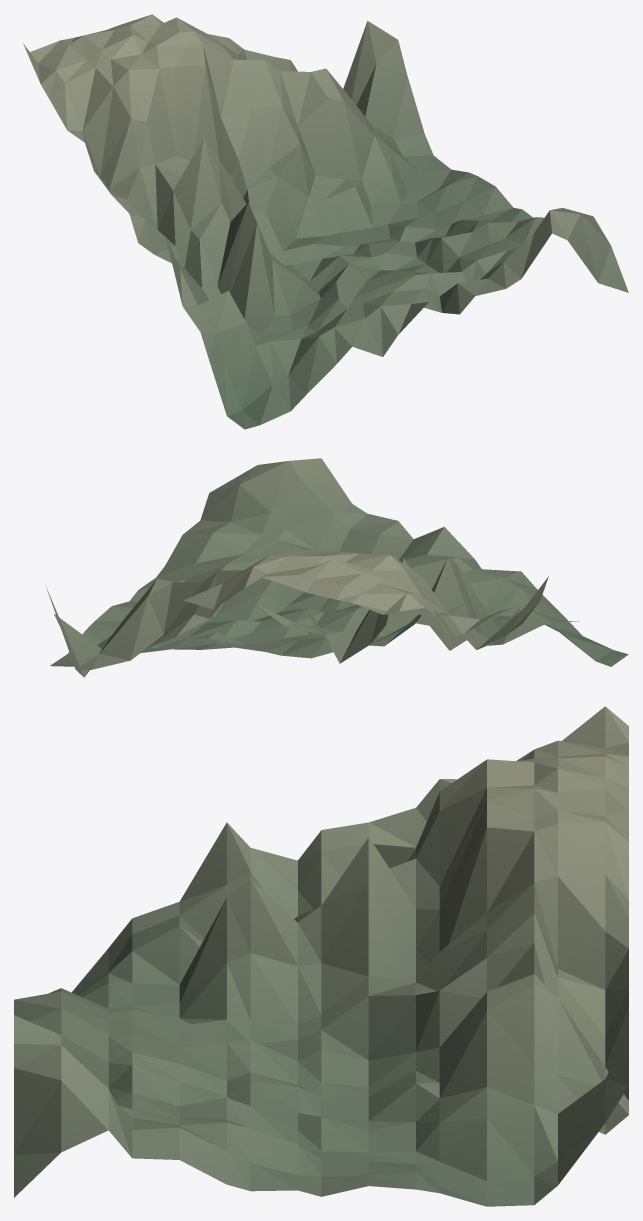
The model's file is tile_2_3.glb.
3 renders of one model, top to bottom at view 1: azimuth 30°, elevation 25°; view 2: azimuth 150°, elevation 25°; view 3: azimuth 270°, elevation 25°, orthographic. The views are drawn at different scales.
Visible parts, largest first — view 1: geometry_0; view 2: geometry_0; view 3: geometry_0.
Part boxes in pixels (x1,y1,x2,y2): geometry_0: (23,14,628,429); geometry_0: (45,458,628,677); geometry_0: (14,706,628,1206).
Size of the model in its own units: 123 by 68.36 by 127.
